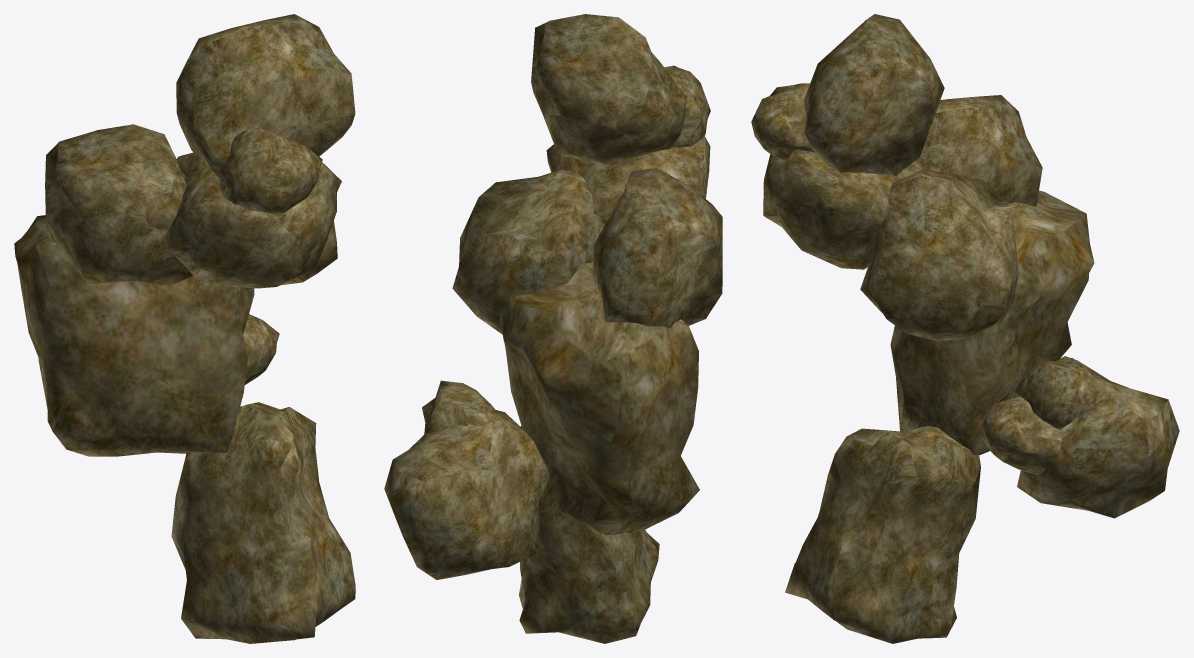
Rendered from FALLING_ROCKS.fbx.
3 views of the same model, side by side, from view 1: azimuth 30°, elevation 25°; view 2: azimuth 150°, elevation 25°; view 3: azimuth 270°, elevation 25° (orthographic). The views are drawn at different scales.
Visible parts, largest first — view 1: FALLING_ROCKS; view 2: FALLING_ROCKS; view 3: FALLING_ROCKS.
Boxes of the visible parts, left/top/right/bottom form: FALLING_ROCKS: left=14, top=14, right=355, bottom=643; FALLING_ROCKS: left=384, top=14, right=722, bottom=643; FALLING_ROCKS: left=751, top=14, right=1179, bottom=643.
Size of the model in its own units: 36881 by 84860 by 55047.
1 material, 1 textured.
